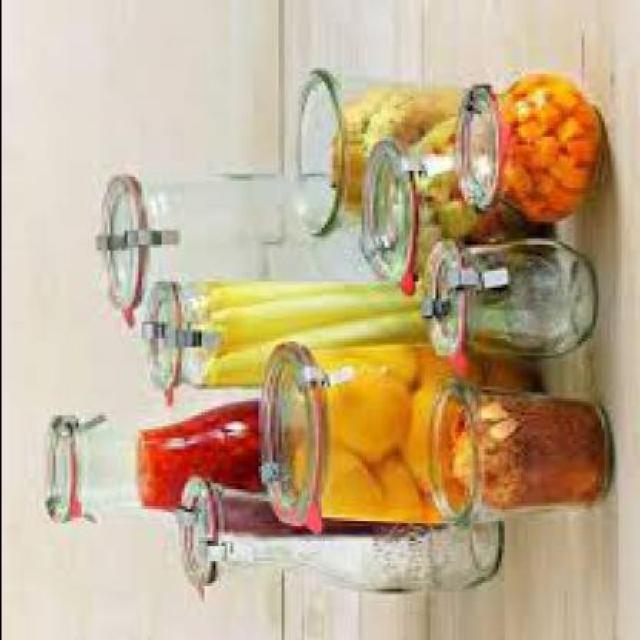BIODEGRADABLE: (131, 409, 263, 529), (203, 319, 426, 384), (206, 293, 414, 350), (420, 119, 497, 230), (508, 404, 592, 501), (291, 432, 380, 512), (397, 382, 454, 489), (197, 282, 372, 316), (329, 370, 397, 456), (314, 344, 428, 390), (366, 453, 426, 515), (406, 341, 483, 387), (329, 137, 360, 198), (480, 356, 523, 392), (543, 143, 577, 180), (523, 131, 554, 171), (337, 96, 360, 146), (443, 429, 466, 478), (488, 444, 506, 501), (374, 109, 412, 136), (561, 119, 585, 159), (558, 82, 582, 120), (518, 182, 542, 216), (543, 185, 574, 210), (506, 134, 523, 177), (500, 159, 517, 196), (383, 88, 414, 108), (512, 109, 534, 133), (551, 108, 566, 140), (506, 97, 523, 125), (488, 410, 506, 435), (423, 94, 448, 111), (523, 79, 543, 99), (475, 404, 499, 418), (532, 97, 548, 117), (532, 168, 538, 185)
GLASS: (254, 338, 543, 520), (98, 168, 372, 315), (172, 472, 498, 590), (140, 273, 429, 381), (361, 111, 545, 275), (288, 65, 458, 233), (43, 398, 260, 518), (426, 378, 606, 518), (454, 70, 606, 222), (419, 233, 592, 353)
